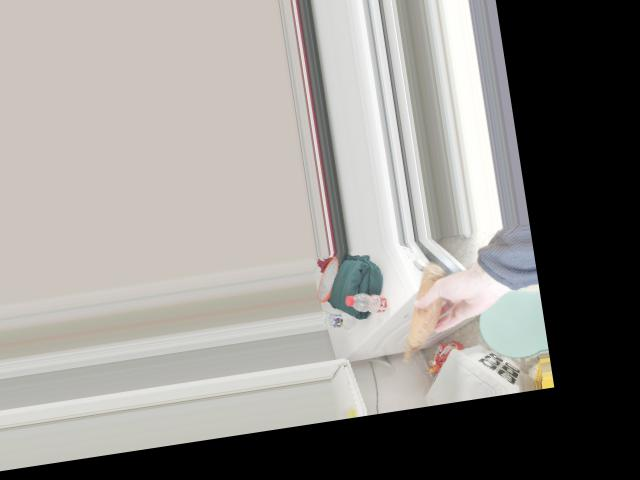sweet_potato: (396, 267, 452, 340)
